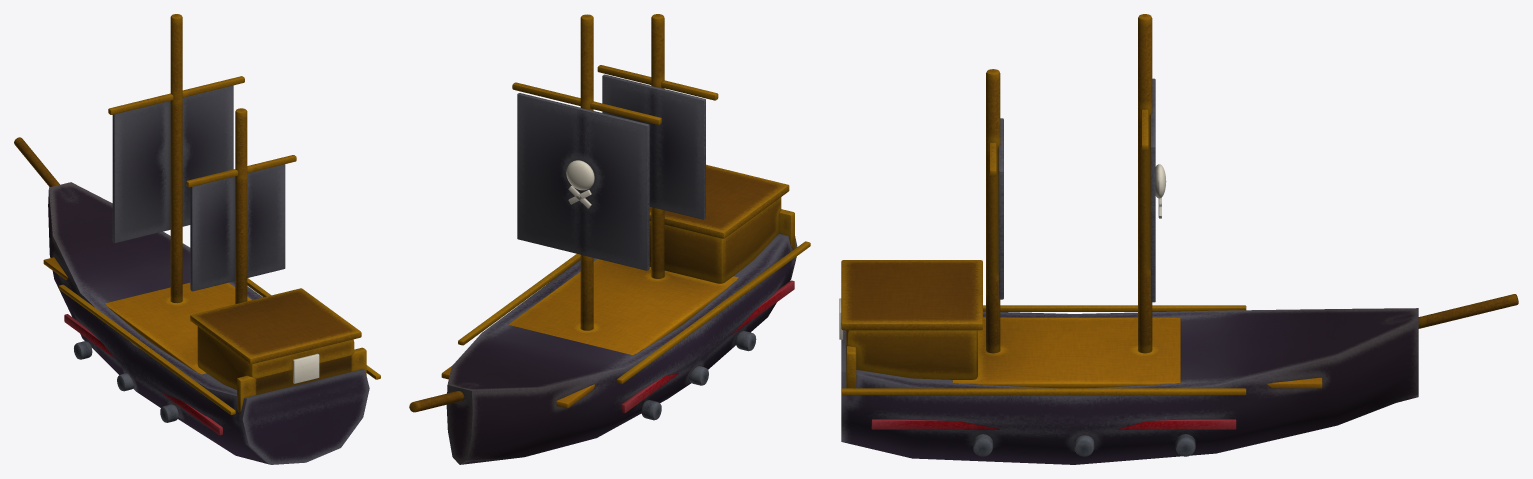
File: PirateShipSmall.fbx
3 views of the same model, side by side, from view 1: azimuth 30°, elevation 25°; view 2: azimuth 150°, elevation 25°; view 3: azimuth 270°, elevation 25° (orthographic). The views are drawn at different scales.
Visible parts, largest first — view 1: PirateShipSmall; view 2: PirateShipSmall; view 3: PirateShipSmall.
Part boxes in pixels (<box>): PirateShipSmall: <box>14,14,380,464</box>; PirateShipSmall: <box>409,14,810,464</box>; PirateShipSmall: <box>839,14,1518,464</box>.
Size of the model in its own units: 2.2 by 4.7 by 6.71.
